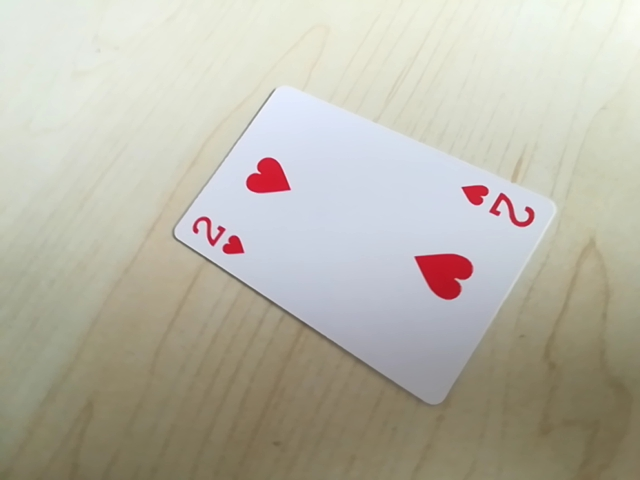hx 2: (455, 179, 544, 234), (183, 211, 249, 265)
